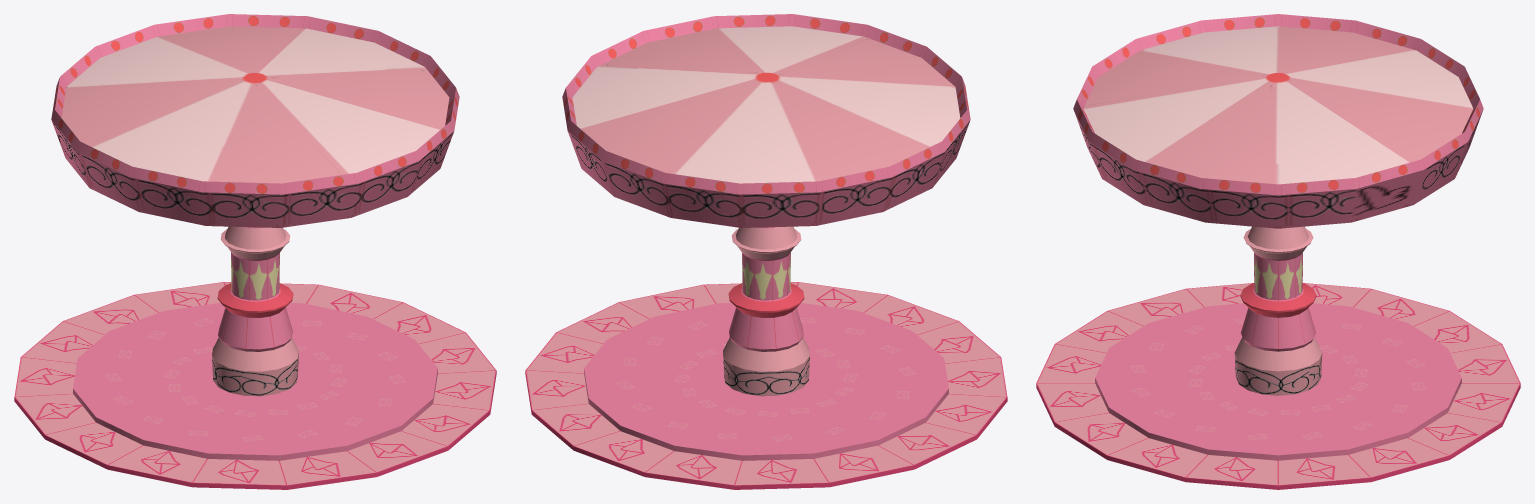
Rendered from SpinSwing.fbx.
The picture shows the model from 3 angles, left to right: view 1: azimuth 30°, elevation 25°; view 2: azimuth 150°, elevation 25°; view 3: azimuth 270°, elevation 25°; orthographic projection.
Parts seen in each view (by area): view 1: Line001; view 2: Line001; view 3: Line001.
Part boxes in pixels (x1,y1,x2,y2): Line001: [14, 14, 496, 489]; Line001: [525, 14, 1007, 489]; Line001: [1036, 14, 1520, 489].
Bounding box in the file's own units: 1256 × 891 × 1256.
Materials: 1 (1 with a texture image).
